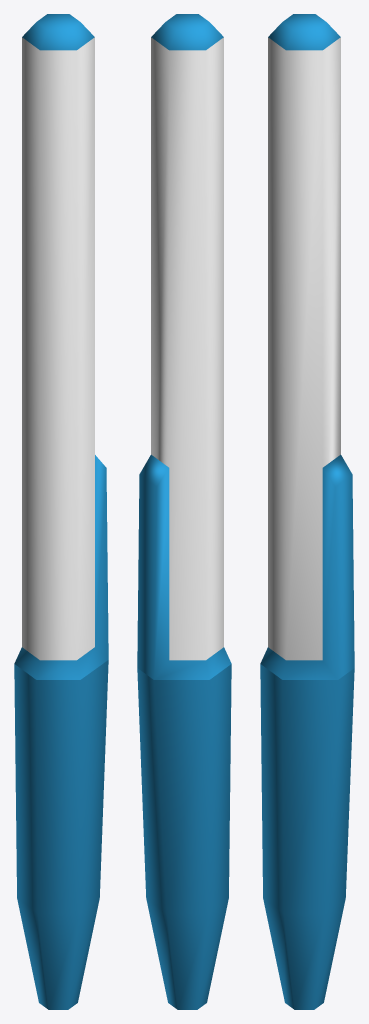
The model's file is Pen1.FBX.
3 renders of one model, left to right at view 1: azimuth 30°, elevation 25°; view 2: azimuth 210°, elevation 25°; view 3: azimuth 330°, elevation 25°, orthographic.
Visible parts, largest first — view 1: SM_Prop_Pen_06; view 2: SM_Prop_Pen_06; view 3: SM_Prop_Pen_06.
Boxes of the visible parts, x1,y1,x2,y2 form: SM_Prop_Pen_06: [14, 14, 108, 1009]; SM_Prop_Pen_06: [137, 14, 231, 1009]; SM_Prop_Pen_06: [260, 14, 354, 1009].
Bounding box in the file's own units: 1.8 × 22.53 × 1.84.
